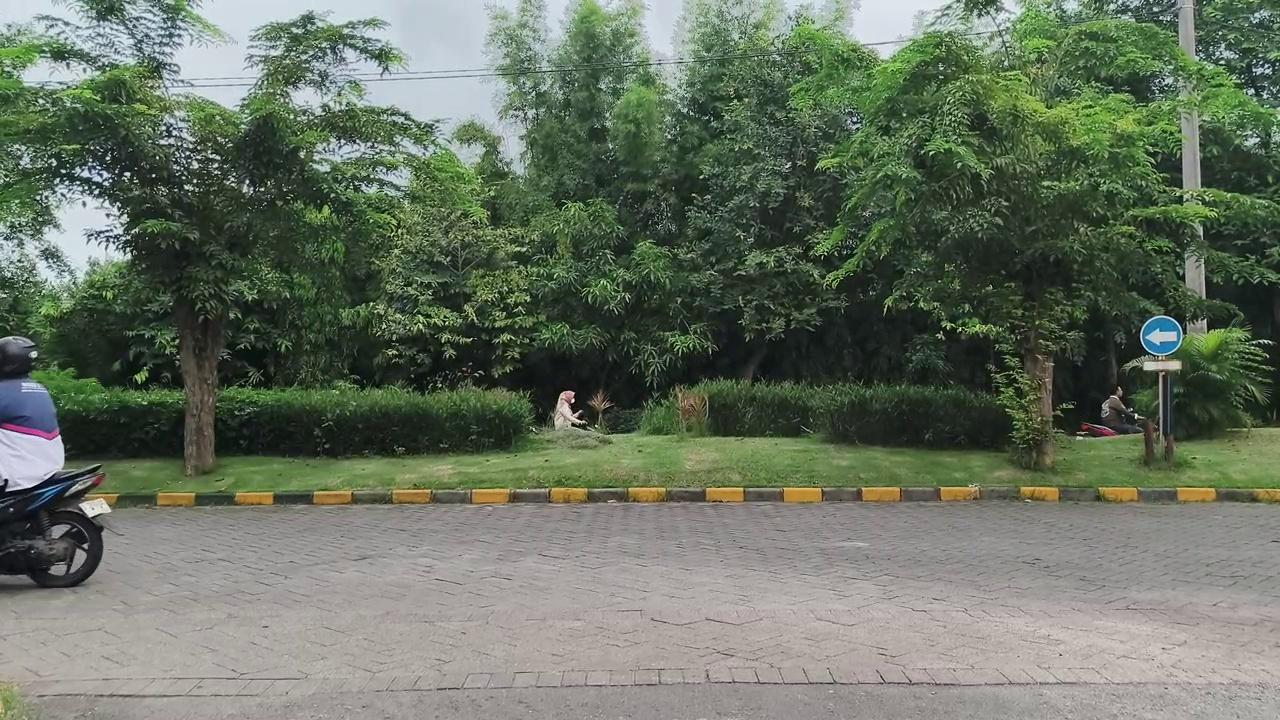Helmet: (0, 336, 64, 493)
Motor: (0, 465, 110, 587)
